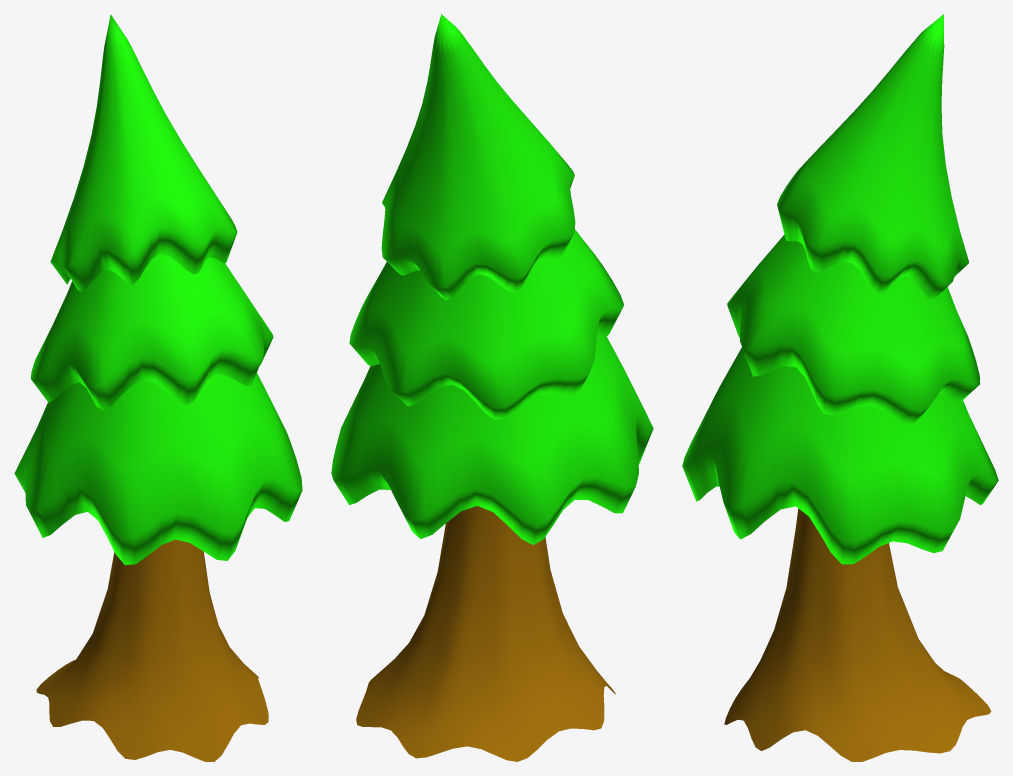
File: pine4.fbx
3 views of the same model, side by side, from view 1: azimuth 30°, elevation 25°; view 2: azimuth 150°, elevation 25°; view 3: azimuth 270°, elevation 25° (orthographic). The views are drawn at different scales.
Parts seen in each view (by area): view 1: pine5; view 2: pine5; view 3: pine5.
Part boxes in pixels (left/top/right/bottom): pine5: left=14, top=14, right=302, bottom=761; pine5: left=331, top=14, right=653, bottom=761; pine5: left=682, top=14, right=998, bottom=761.
Size of the model in its own units: 104 by 258 by 104.
